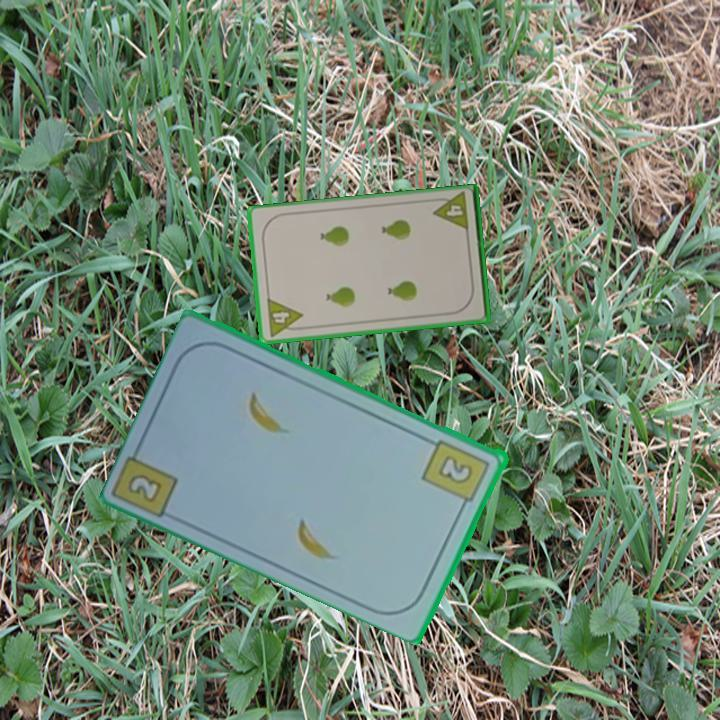2b: (419, 436, 493, 512), (127, 473, 162, 502)
4p: (263, 295, 306, 339), (429, 190, 471, 234)
